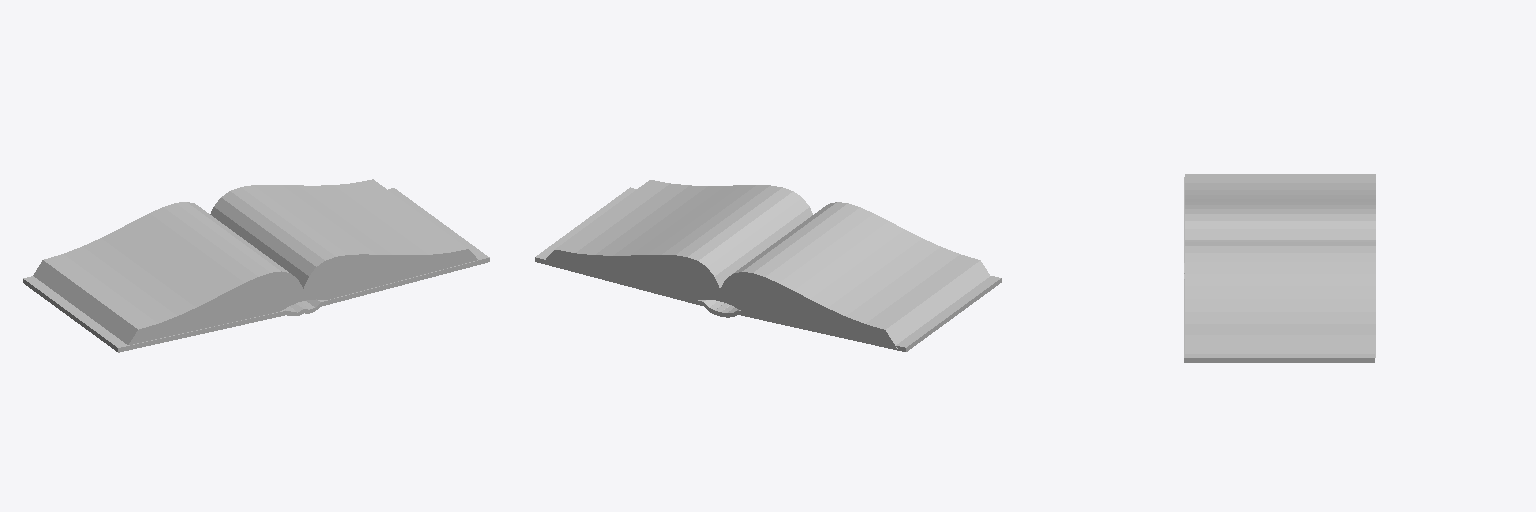
File: book.obj
3 views of the same model, side by side, from view 1: azimuth 30°, elevation 25°; view 2: azimuth 150°, elevation 25°; view 3: azimuth 270°, elevation 25° (orthographic).
Parts seen in each view (by area): view 1: BézierCurve; view 2: BézierCurve; view 3: BézierCurve.
Boxes of the visible parts, <box> form: BézierCurve: <box>23,179,489,352</box>; BézierCurve: <box>535,180,1001,351</box>; BézierCurve: <box>1184,174,1375,362</box>.
Size of the model in its own units: 4.5 by 0.5997 by 2.01.